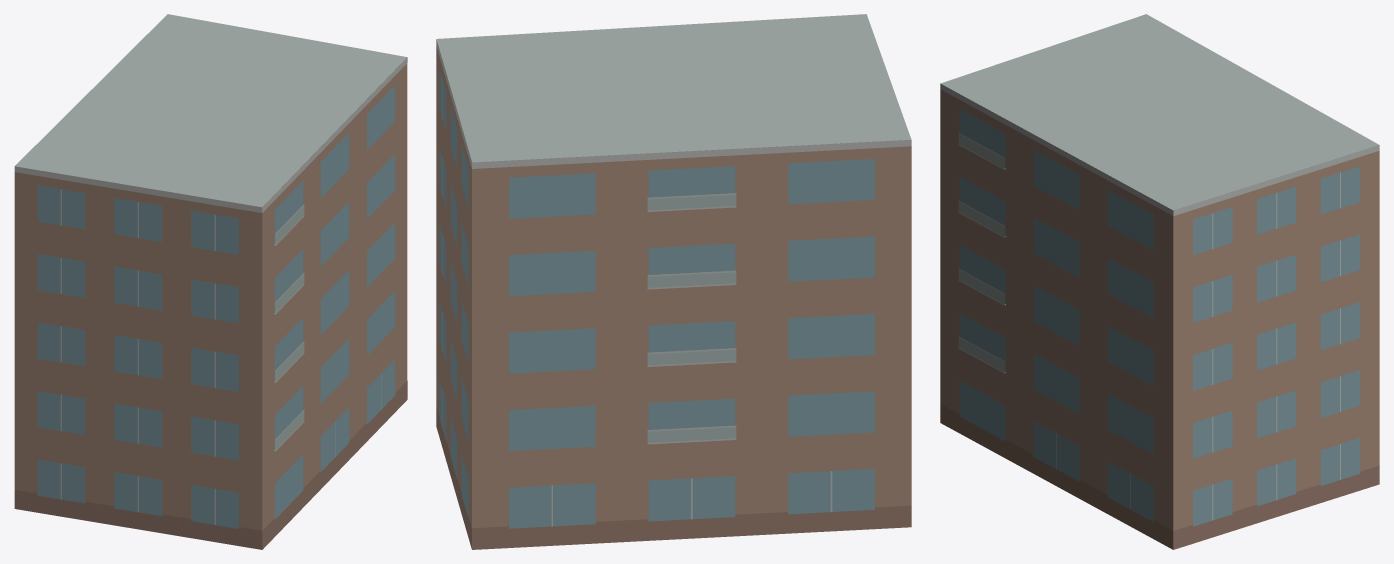
File: survey-upis-32924436.glb
3 renders of one model, left to right at view 1: azimuth 30°, elevation 25°; view 2: azimuth 150°, elevation 25°; view 3: azimuth 270°, elevation 25°, orthographic. The views are drawn at different scales.
Visible parts, largest first — view 1: survey-upis-32924436.tmp; view 2: survey-upis-32924436.tmp; view 3: survey-upis-32924436.tmp.
Part boxes in pixels (left/top/right/bottom): survey-upis-32924436.tmp: left=14, top=14, right=407, bottom=549; survey-upis-32924436.tmp: left=436, top=14, right=911, bottom=549; survey-upis-32924436.tmp: left=940, top=14, right=1379, bottom=549.
Bounding box in the file's own units: 18.02 × 14.5 × 17.02.
